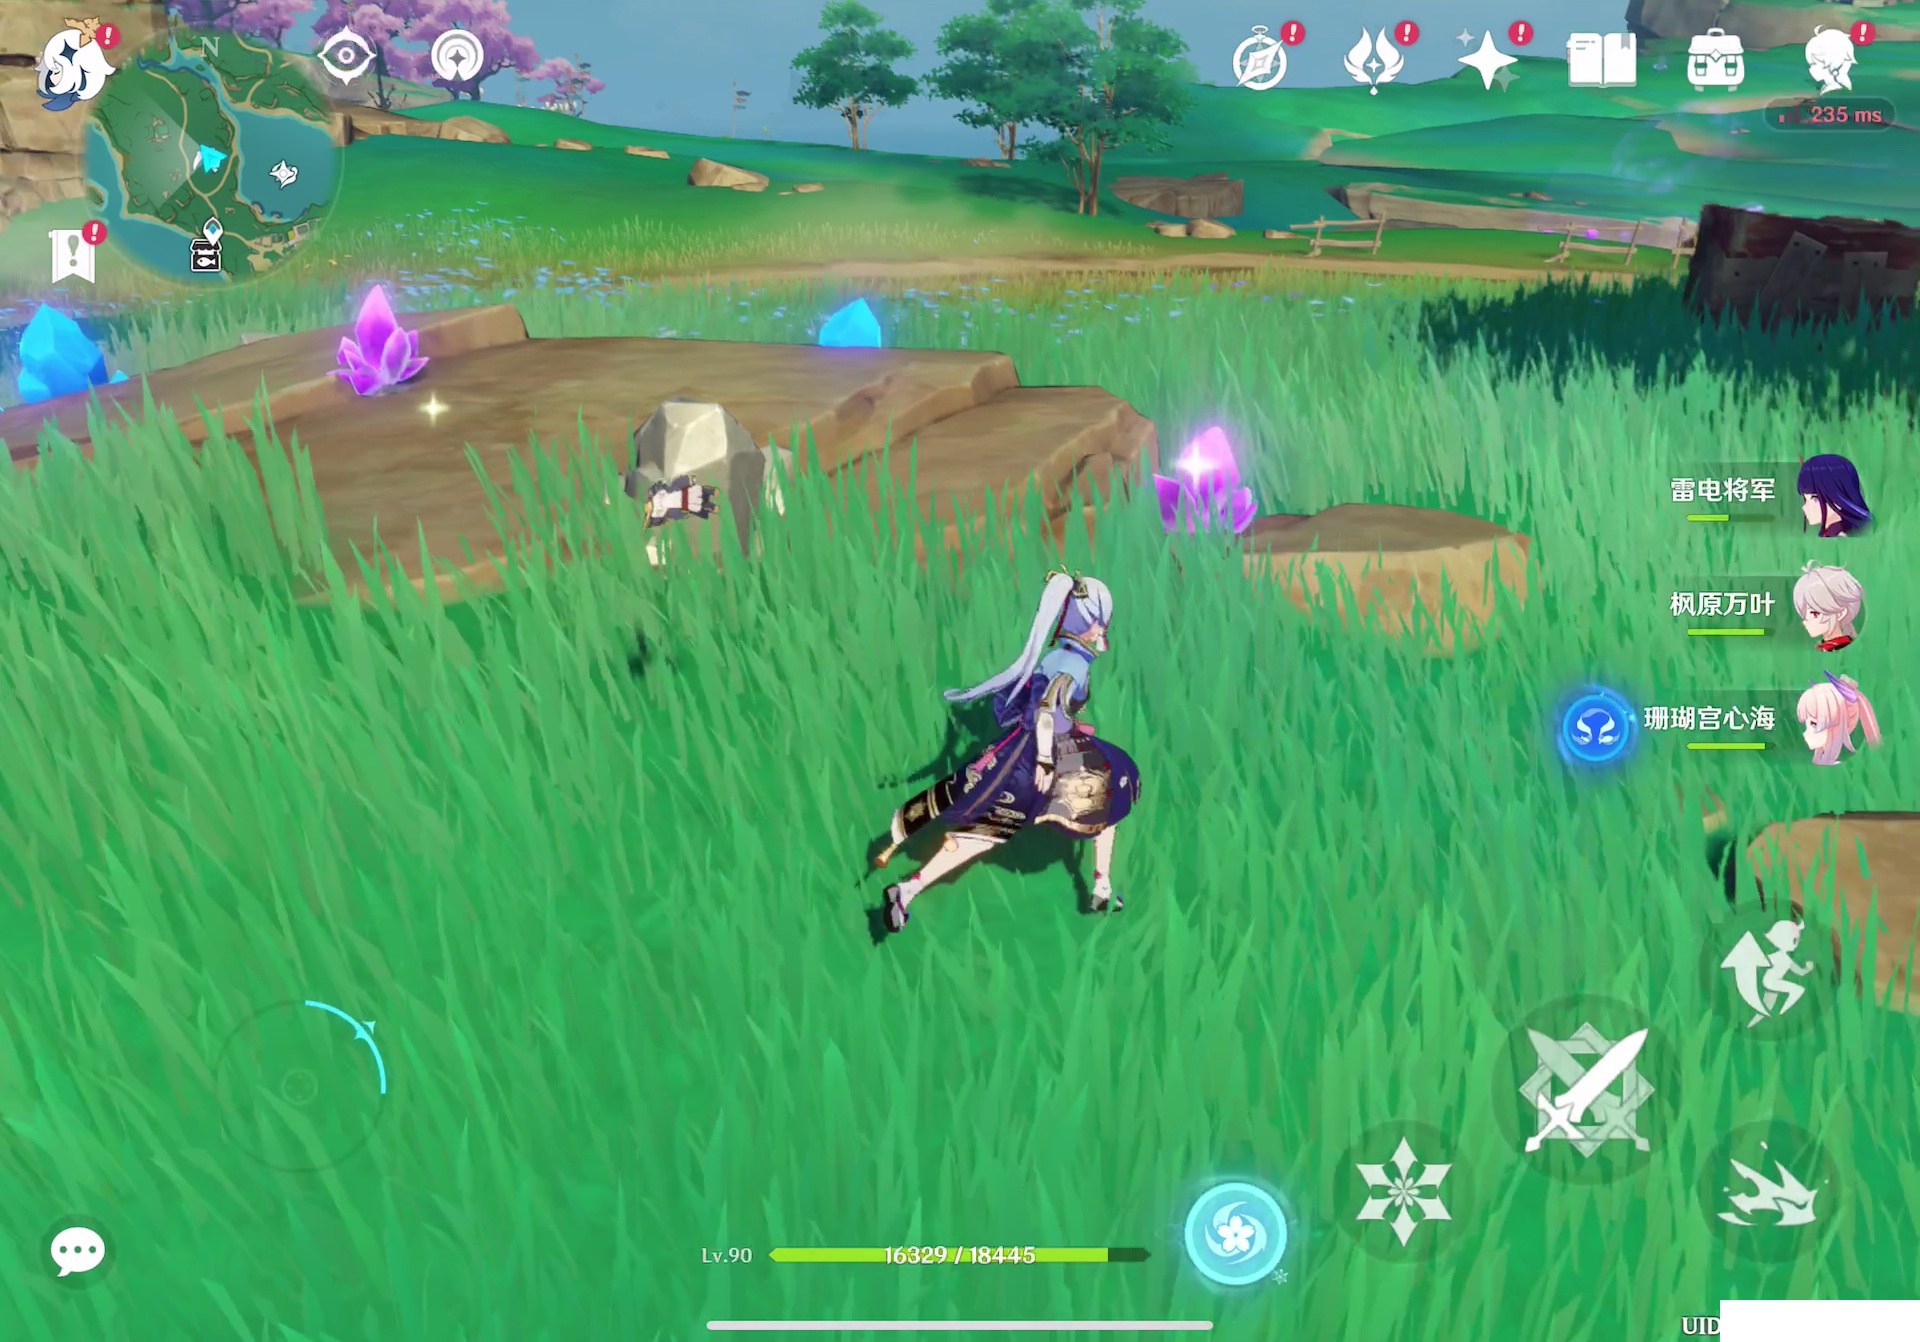白铁矿石: (584, 407, 823, 562)
神里绫龟: (884, 551, 1137, 901)
紫矿石: (322, 283, 439, 406), (1160, 417, 1253, 553)
蓝矿石: (15, 300, 140, 427), (824, 296, 871, 349)
